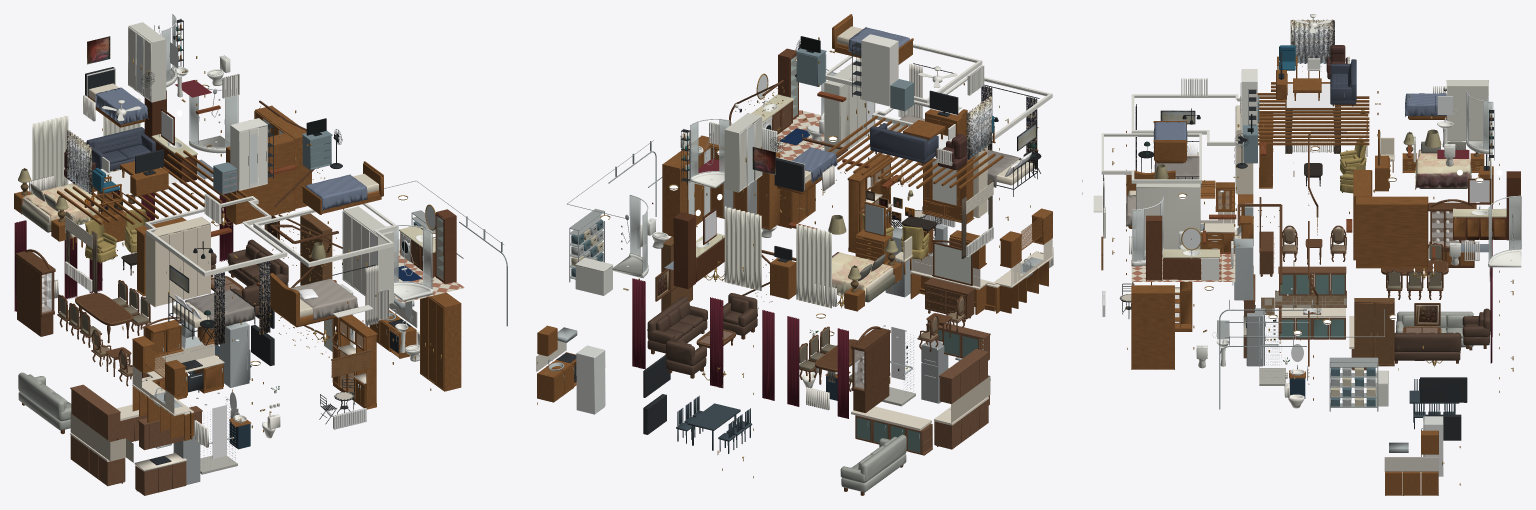
The model's file is INTERIOR-3-opt.glb.
The picture shows the model from 3 angles, left to right: view 1: azimuth 30°, elevation 25°; view 2: azimuth 150°, elevation 25°; view 3: azimuth 270°, elevation 25°; orthographic projection. The views are drawn at different scales.
Parts seen in each view (by area): view 1: wood_honey (2).001, white_trim (2), antique_wood (2), R31 | R33 garden kitchen walnut, linen, R31 | R33 ivory wardrobe lacquer, Cube, Completion | Dark satin metal, chrome (2), Room pass | Quilted bedspread, Room pass | Quilted bedspread -3, curtain_sheer (+33 smaller); view 2: wood_honey (2).001, white_trim (2), burgundy_velvet, curtain_sheer, antique_wood (2), R31 | R33 ivory wardrobe lacquer, R31 | R33 garden kitchen walnut, leather_brown, Completion | Dark satin metal, Cube, Bathroom dark walnut, R31 | R33 antique nook walnut (+36 smaller); view 3: wood_honey (2).001, R31 | R33 ivory wardrobe lacquer, white_trim (2), antique_wood (2), leather_brown, R31 | R35 garage oak storage, Completion | Dark satin metal, chrome (2), Basement | Photographed satin green panel, R31 | Bathroom walnut, R31 | R33 garden kitchen walnut, R31 | R33 warm porcelain (+36 smaller).
Boxes of the visible parts, bbox=[...] form: wood_honey (2).001: bbox=[14, 96, 461, 440]; white_trim (2): bbox=[65, 68, 397, 320]; antique_wood (2): bbox=[15, 100, 342, 433]; R31 | R33 garden kitchen walnut: bbox=[70, 384, 202, 495]; linen: bbox=[22, 83, 378, 327]; R31 | R33 ivory wardrobe lacquer: bbox=[128, 22, 393, 303]; Cube: bbox=[70, 337, 366, 471]; Completion | Dark satin metal: bbox=[85, 35, 410, 465]; chrome (2): bbox=[153, 88, 414, 467]; Room pass | Quilted bedspread: bbox=[185, 278, 357, 330]; Room pass | Quilted bedspread -3: bbox=[95, 87, 367, 211]; curtain_sheer: bbox=[32, 98, 140, 187]; wood_honey (2).001: bbox=[537, 14, 1052, 402]; white_trim (2): bbox=[709, 34, 1052, 257]; burgundy_velvet: bbox=[632, 278, 848, 418]; curtain_sheer: bbox=[724, 206, 831, 308]; antique_wood (2): bbox=[651, 80, 903, 495]; R31 | R33 ivory wardrobe lacquer: bbox=[724, 58, 875, 192]; R31 | R33 garden kitchen walnut: bbox=[855, 322, 990, 455]; leather_brown: bbox=[647, 293, 757, 375]; Completion | Dark satin metal: bbox=[556, 42, 958, 434]; Cube: bbox=[851, 193, 1053, 430]; Bathroom dark walnut: bbox=[673, 207, 724, 288]; R31 | R33 antique nook walnut: bbox=[917, 240, 975, 351]; wood_honey (2).001: bbox=[1126, 56, 1505, 495]; R31 | R33 ivory wardrobe lacquer: bbox=[1136, 80, 1488, 250]; white_trim (2): bbox=[1093, 14, 1415, 238]; antique_wood (2): bbox=[1237, 131, 1486, 366]; leather_brown: bbox=[1394, 308, 1490, 360]; R31 | R35 garage oak storage: bbox=[1354, 298, 1394, 366]; Completion | Dark satin metal: bbox=[1236, 52, 1487, 440]; chrome (2): bbox=[1200, 93, 1513, 452]; Basement | Photographed satin green panel: bbox=[1280, 275, 1344, 337]; R31 | Bathroom walnut: bbox=[1146, 215, 1220, 280]; R31 | R33 garden kitchen walnut: bbox=[1243, 266, 1366, 370]; R31 | R33 warm porcelain: bbox=[1196, 121, 1521, 368].
Bounding box in the file's own units: 13.23 × 12.15 × 14.56.
126 materials, 20 textured.
